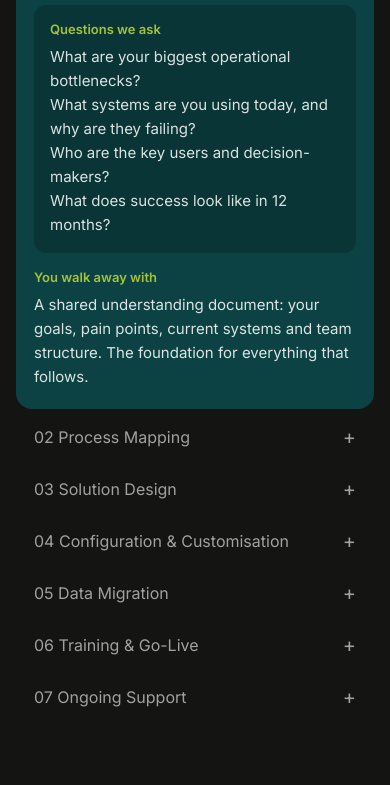
Test: How we work › opens one phone step at a time, and closes it on a second tap
Later steps or results of the test are not shown.
(page scrolled)
Step 1. Click the button "05 Data Migration +" → point(113, 593), box top-left (16, 569), bottom-right (374, 617)
(page scrolled)
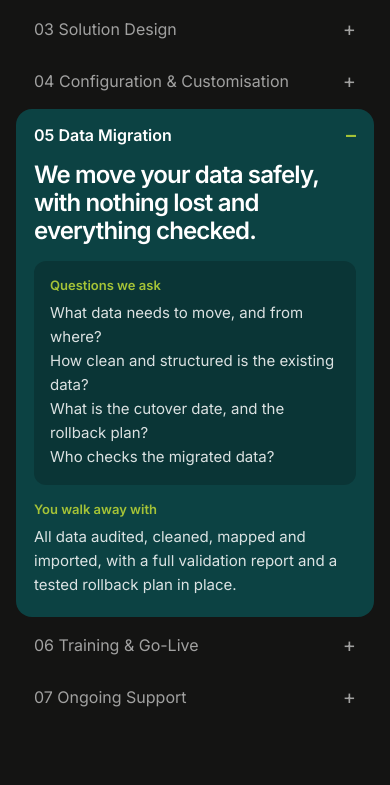
Expected: the button "05 Data Migration –" is expanded, top-left (16, 109), bottom-right (374, 145)
